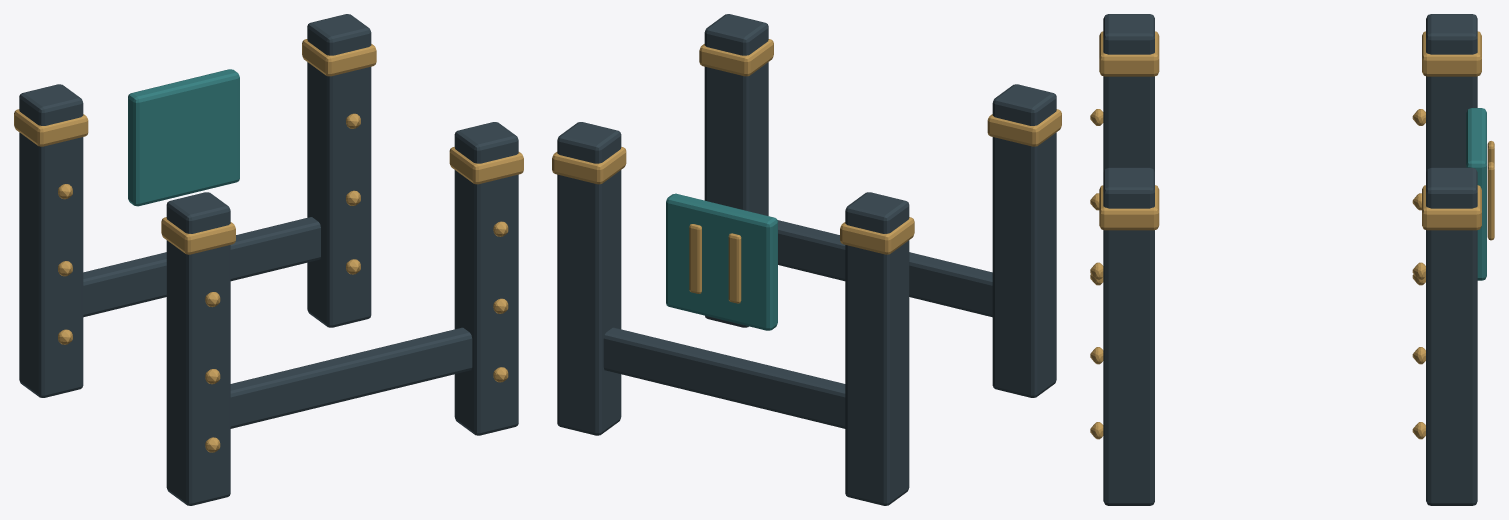
The model's file is upgrade_iron.glb.
3 views of the same model, side by side, from view 1: azimuth 30°, elevation 25°; view 2: azimuth 150°, elevation 25°; view 3: azimuth 270°, elevation 25° (orthographic). The views are drawn at different scales.
Visible parts, largest first — view 1: ArmoredButtress, TierTwoShield, BrassEdging; view 2: ArmoredButtress, TierTwoShield, BrassEdging; view 3: ArmoredButtress, BrassEdging, TierTwoShield.
Part boxes in pixels (x1,y1,x2,y2): ArmoredButtress: (19,14,518,505); TierTwoShield: (128,69,239,206); BrassEdging: (14,39,523,452); ArmoredButtress: (557,14,1056,505); TierTwoShield: (666,193,777,330); BrassEdging: (552,39,1061,303); ArmoredButtress: (1103,14,1477,505); BrassEdging: (1090,31,1494,439); TierTwoShield: (1466,108,1486,280).
Bounding box in the file's own units: 2.07 × 1.7 × 1.96.
